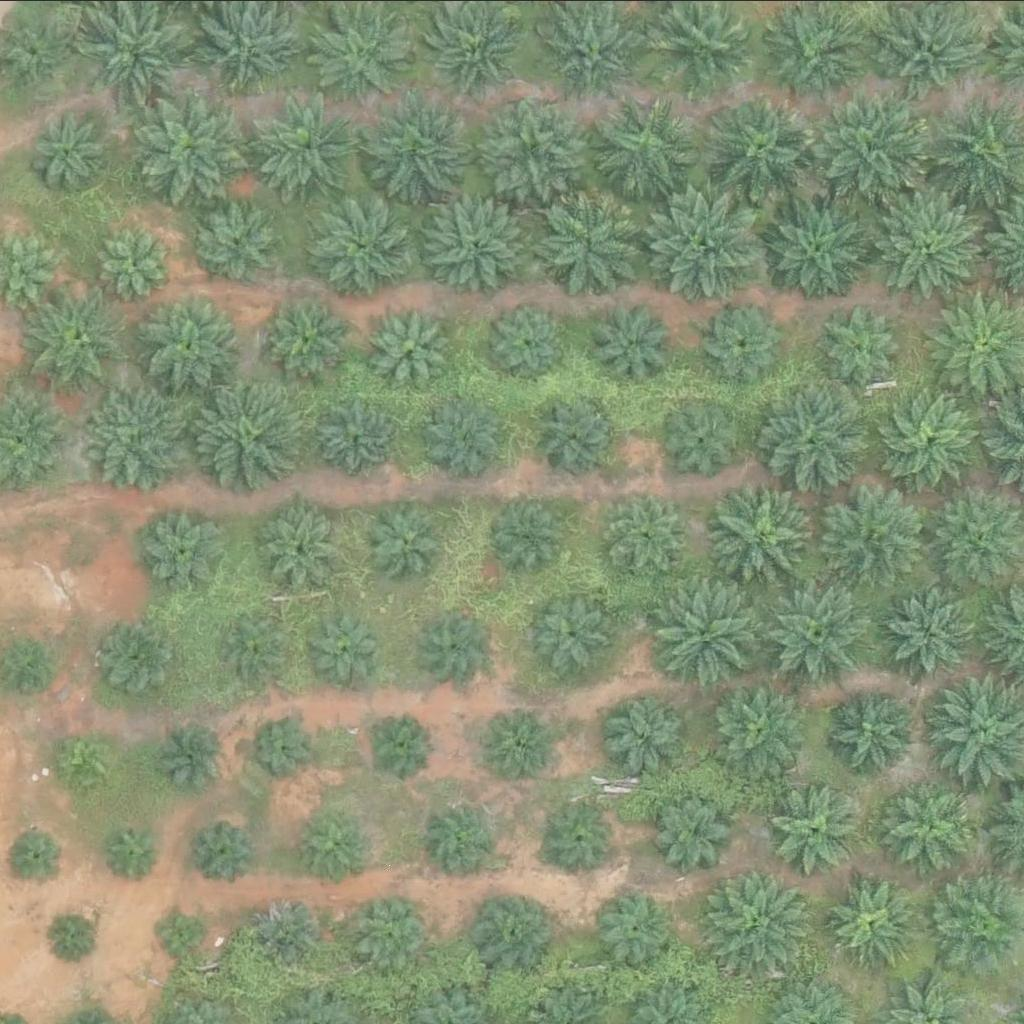Kelapa_Sawit: (84, 375, 198, 488), (191, 369, 305, 482), (817, 88, 931, 201), (648, 188, 762, 301), (131, 88, 244, 201), (250, 83, 363, 196), (359, 89, 472, 202), (760, 189, 873, 302), (875, 191, 988, 304), (816, 479, 929, 592), (649, 578, 762, 691), (762, 578, 875, 691), (477, 90, 591, 202), (706, 87, 820, 199), (535, 187, 649, 299), (756, 382, 869, 494), (873, 380, 986, 492), (709, 481, 822, 593), (22, 289, 123, 389), (709, 676, 810, 776), (706, 869, 807, 969), (142, 289, 242, 389), (309, 192, 409, 292), (423, 189, 523, 289), (595, 99, 695, 199), (882, 771, 982, 871), (531, 584, 620, 672), (471, 885, 559, 973), (603, 488, 691, 576), (830, 683, 918, 771), (648, 788, 736, 876), (774, 784, 862, 872), (27, 105, 116, 192), (601, 694, 690, 781), (592, 300, 680, 387), (486, 294, 574, 381), (531, 385, 619, 472), (695, 296, 783, 383), (815, 301, 903, 388), (890, 589, 978, 676), (827, 879, 915, 966), (214, 606, 290, 681), (104, 622, 180, 697), (265, 508, 341, 583), (145, 513, 221, 588), (318, 393, 394, 468), (432, 395, 508, 470), (271, 301, 347, 376), (375, 306, 451, 381), (204, 199, 280, 274), (97, 224, 172, 299), (546, 796, 621, 871), (430, 808, 505, 883), (421, 607, 496, 682), (493, 502, 568, 577), (365, 500, 440, 575), (305, 606, 380, 681), (356, 898, 431, 973), (255, 891, 330, 966), (160, 719, 235, 794), (250, 705, 325, 780), (364, 707, 439, 782), (488, 704, 563, 779), (667, 400, 742, 475), (604, 890, 679, 965), (303, 810, 366, 873), (58, 733, 121, 796), (4, 17, 67, 79), (5, 824, 68, 886), (105, 820, 168, 882), (192, 820, 255, 882), (49, 906, 100, 956), (155, 907, 206, 957)
